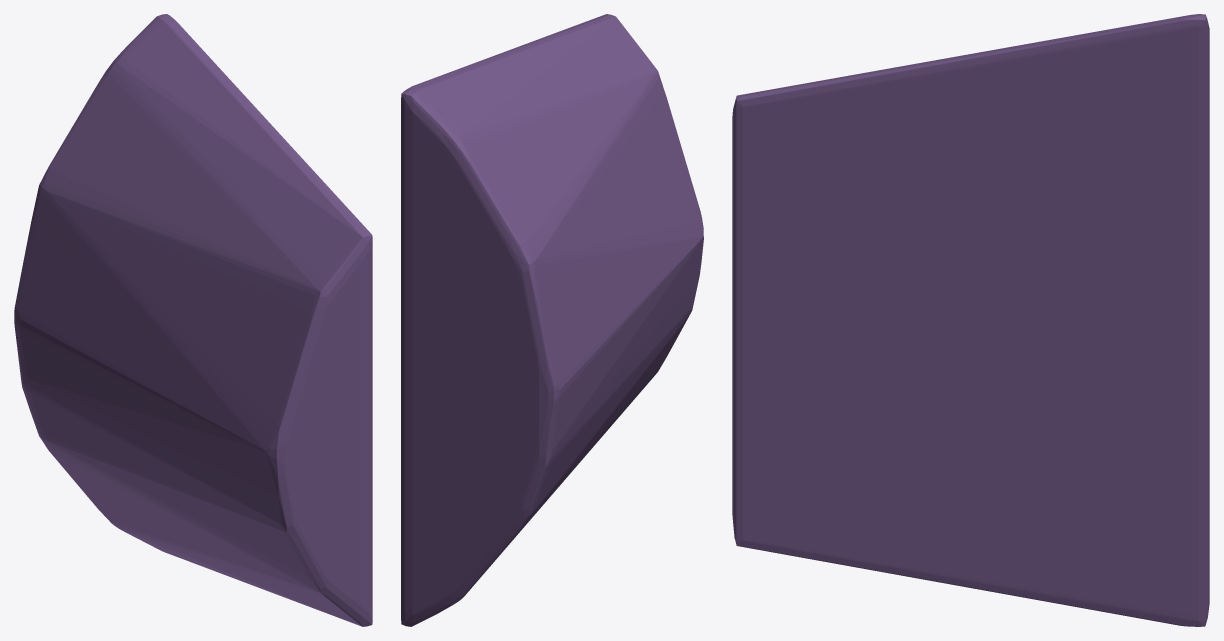
Rendered from right_th_proximal_part_1.obj.
3 renders of one model, left to right at view 1: azimuth 30°, elevation 25°; view 2: azimuth 150°, elevation 25°; view 3: azimuth 270°, elevation 25°, orthographic. The views are drawn at different scales.
Bounding box in the file's own units: 6.64 × 21.98 × 15.61.
